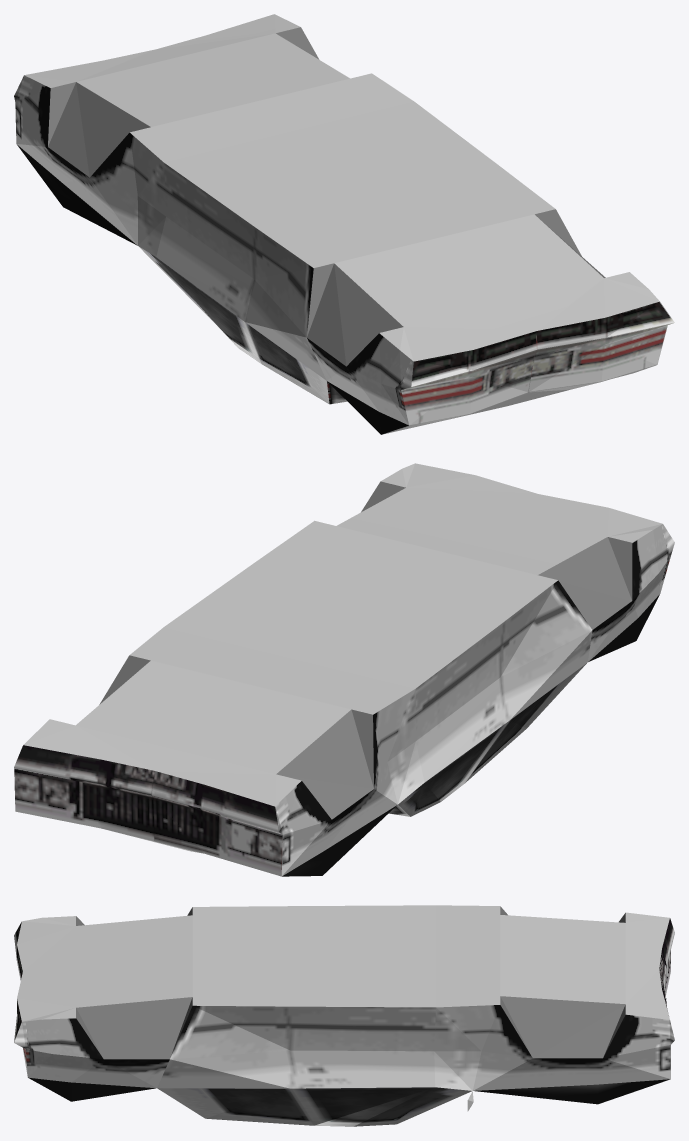
File: VEGAS_model0_damaged.obj
3 views of the same model, one above another, from view 1: azimuth 30°, elevation 25°; view 2: azimuth 150°, elevation 25°; view 3: azimuth 270°, elevation 25° (orthographic). The views are drawn at different scales.
Visible parts, largest first — view 1: VEGAS_model0_damaged_set4_id7_ft, VEGAS_model0_damaged_set59_id14, VEGAS_model0_damaged_set59_id13, VEGAS_model0_damaged_flat, VEGAS_model0_damaged_set59_id0, VEGAS_model0_damaged_set59_id3, VEGAS_model0_damaged_set59_id17, VEGAS_model0_damaged_set59_id9, VEGAS_model0_damaged_set59_id21; view 2: VEGAS_model0_damaged_set4_id7_ft, VEGAS_model0_damaged_set59_id14, VEGAS_model0_damaged_flat, VEGAS_model0_damaged_set59_id13, VEGAS_model0_damaged_set59_id10, VEGAS_model0_damaged_set59_id6, VEGAS_model0_damaged_set59_id9, VEGAS_model0_damaged_set59_id17; view 3: VEGAS_model0_damaged_set4_id7_ft, VEGAS_model0_damaged_set59_id14, VEGAS_model0_damaged_set59_id13, VEGAS_model0_damaged_flat, VEGAS_model0_damaged_set59_id9, VEGAS_model0_damaged_set59_id17, VEGAS_model0_damaged_set59_id6.
Boxes of the visible parts, bbox=[...] form: VEGAS_model0_damaged_set4_id7_ft: bbox=[24, 14, 659, 361]; VEGAS_model0_damaged_set59_id14: bbox=[156, 163, 326, 380]; VEGAS_model0_damaged_set59_id13: bbox=[14, 75, 408, 434]; VEGAS_model0_damaged_flat: bbox=[48, 27, 605, 366]; VEGAS_model0_damaged_set59_id0: bbox=[528, 301, 674, 392]; VEGAS_model0_damaged_set59_id3: bbox=[401, 331, 537, 425]; VEGAS_model0_damaged_set59_id17: bbox=[307, 333, 413, 425]; VEGAS_model0_damaged_set59_id9: bbox=[139, 247, 329, 404]; VEGAS_model0_damaged_set59_id21: bbox=[382, 366, 653, 434]; VEGAS_model0_damaged_set4_id7_ft: bbox=[23, 463, 662, 806]; VEGAS_model0_damaged_set59_id14: bbox=[415, 580, 592, 782]; VEGAS_model0_damaged_flat: bbox=[99, 481, 632, 819]; VEGAS_model0_damaged_set59_id13: bbox=[275, 594, 659, 876]; VEGAS_model0_damaged_set59_id10: bbox=[14, 745, 154, 841]; VEGAS_model0_damaged_set59_id6: bbox=[151, 771, 282, 876]; VEGAS_model0_damaged_set59_id9: bbox=[398, 663, 586, 816]; VEGAS_model0_damaged_set59_id17: bbox=[588, 524, 674, 661]; VEGAS_model0_damaged_set4_id7_ft: bbox=[17, 905, 669, 1021]; VEGAS_model0_damaged_set59_id14: bbox=[157, 1005, 436, 1088]; VEGAS_model0_damaged_set59_id13: bbox=[28, 1005, 674, 1104]; VEGAS_model0_damaged_flat: bbox=[76, 906, 625, 1059]; VEGAS_model0_damaged_set59_id9: bbox=[157, 1087, 471, 1126]; VEGAS_model0_damaged_set59_id17: bbox=[14, 1018, 169, 1088]; VEGAS_model0_damaged_set59_id6: bbox=[659, 918, 674, 994].
Bounding box in the file's own units: 286 × 147 × 670.
14 materials, 12 textured.
